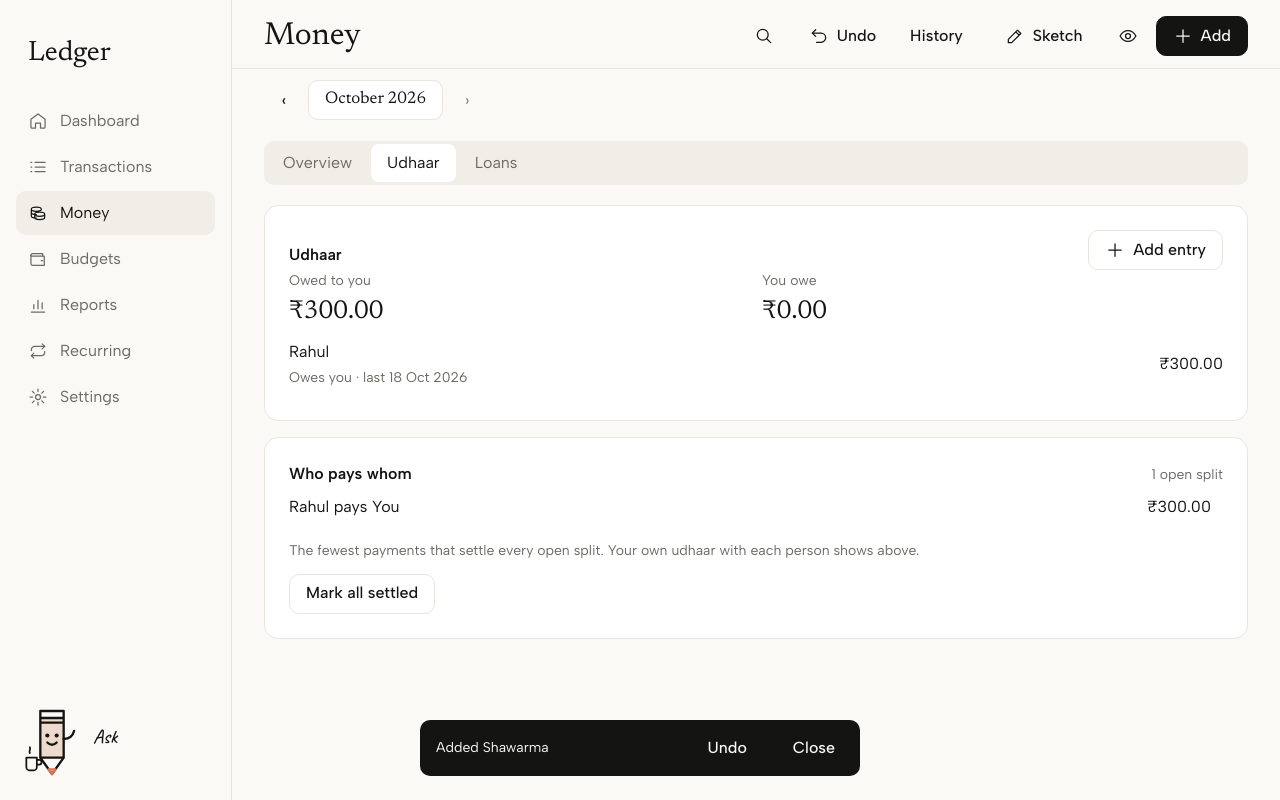
Scenario: splitting an expense › shows who pays whom and settles it
Check: the heading "Money" is shown, box top-left (264, 20), bottom-right (361, 52)
Check: the list item with test id "transfer" reads "Rahul pays You ₹300.00", box top-left (289, 497), bottom-right (1211, 516)
Click the button "Mark all settled" at x=362, y=594, box top-left (289, 574), bottom-right (435, 614)
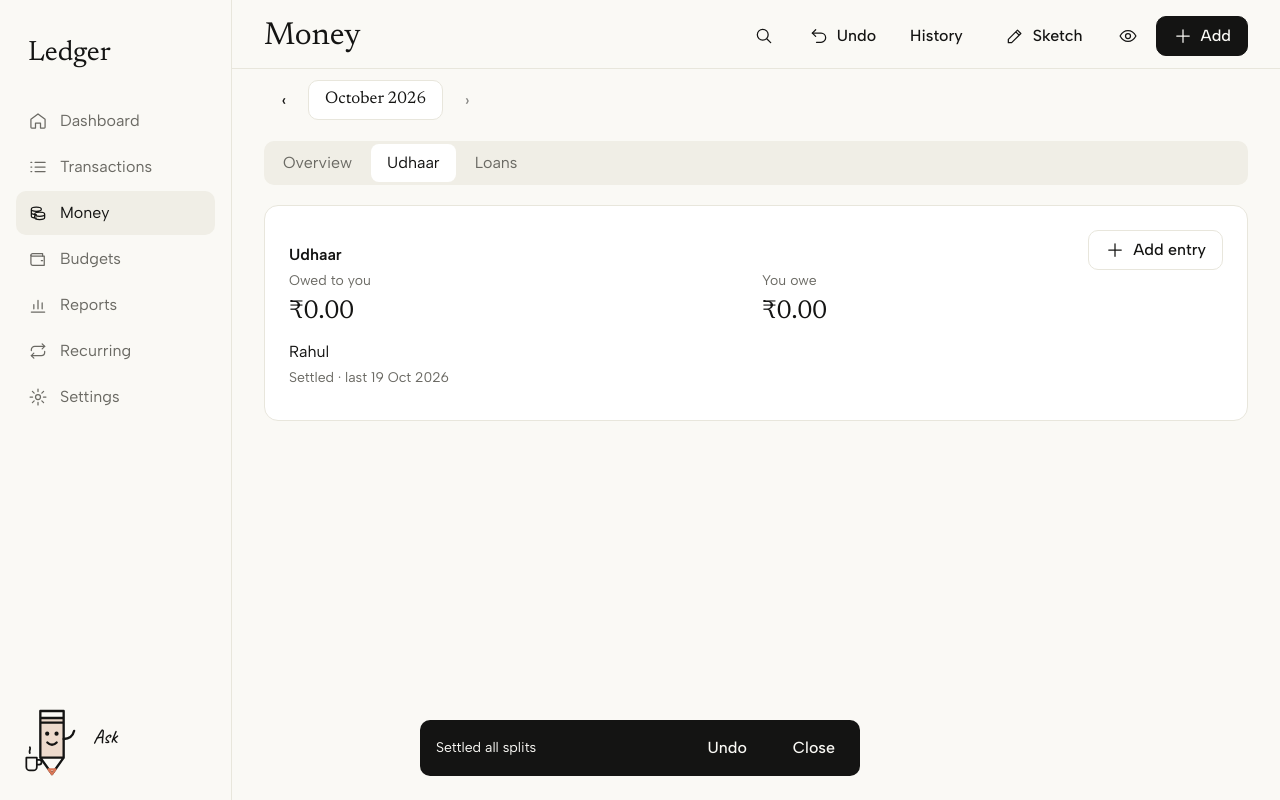
Check: the element with test id "splits" is gone
Check: the element with test id "owed-to-you" reads "₹0.00", box top-left (289, 299), bottom-right (354, 325)
